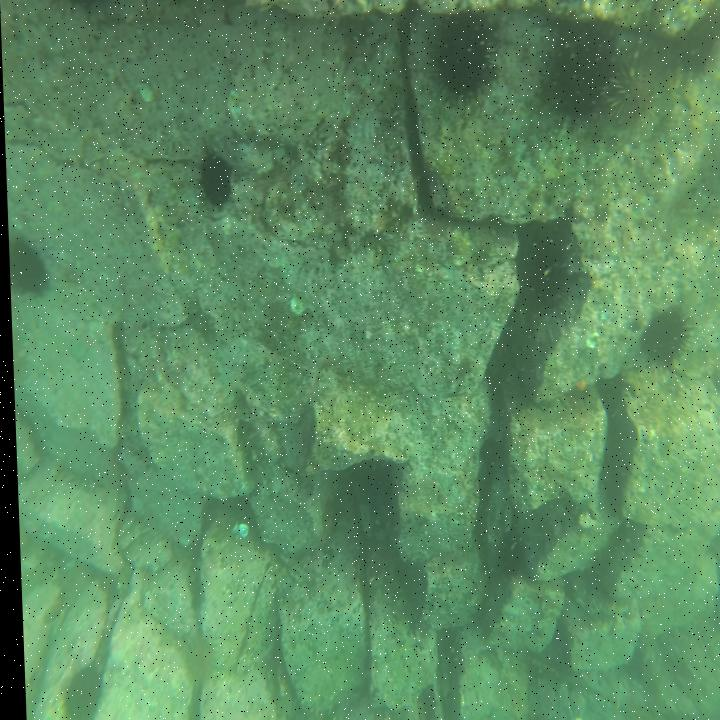echinus: (540, 18, 620, 118), (428, 6, 504, 108), (513, 213, 567, 318), (605, 58, 661, 139), (639, 296, 693, 374), (7, 234, 50, 302), (57, 663, 100, 720), (197, 148, 231, 211)
